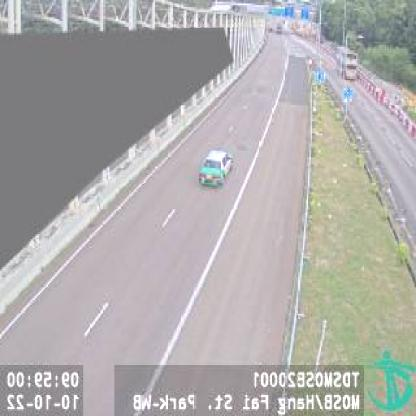Bus: (335, 45, 359, 81)
Car: (198, 147, 235, 189)
